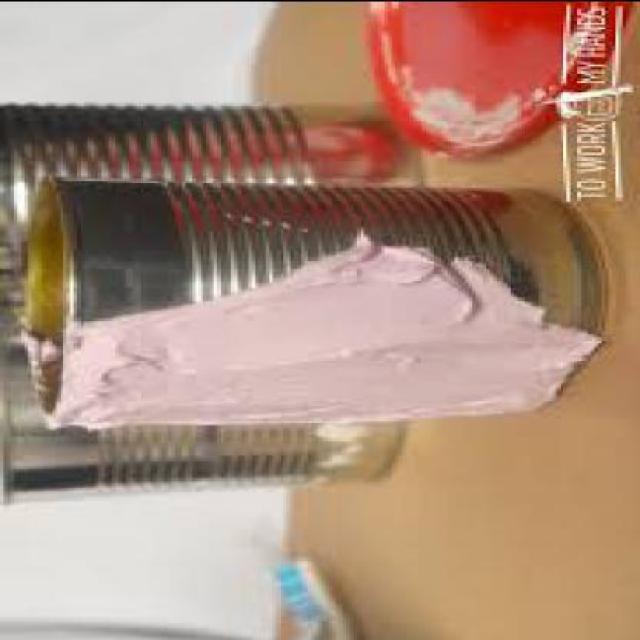METAL: (1, 104, 416, 504), (21, 188, 608, 426)
